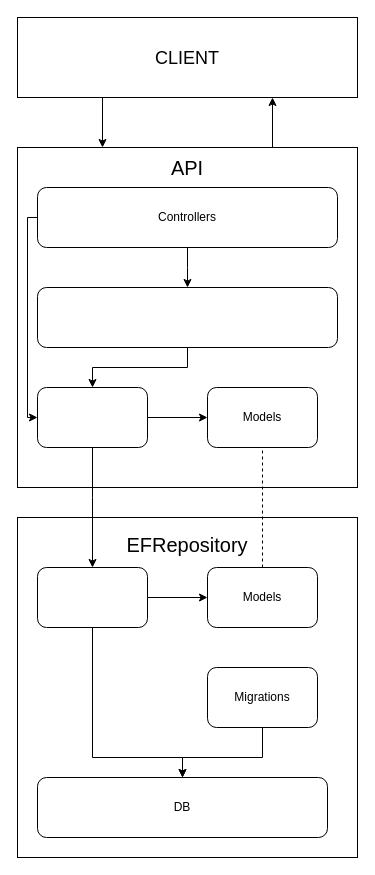
Image size: 375x875. Some labels were removed from this diagram. The shapes that lost their labels are listed below. From the top down, each one's box as (x1, y1, x2, y2) in pixels, then its label:
(36, 286, 338, 348): Orchestrator
(36, 386, 148, 448): Services
(36, 566, 148, 628): Repository
